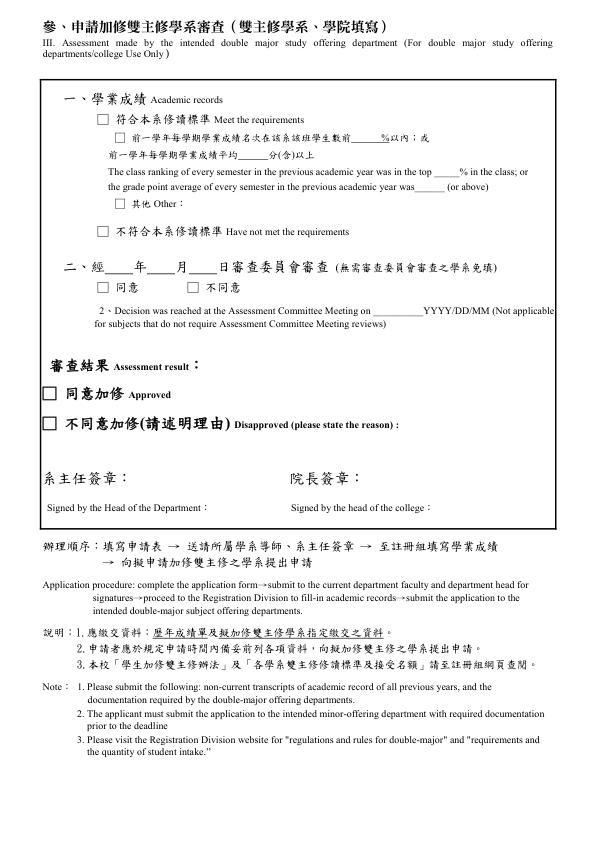check_box: (42, 412, 58, 436), (41, 385, 59, 403), (94, 110, 111, 128), (94, 223, 111, 240), (111, 196, 127, 212), (184, 281, 200, 297), (94, 280, 111, 295), (113, 131, 126, 145)
input: (375, 303, 420, 320), (148, 261, 173, 279), (190, 259, 215, 277), (416, 183, 446, 197), (240, 148, 266, 163), (353, 132, 380, 146), (107, 263, 131, 277), (435, 166, 456, 180)
text: (42, 680, 548, 761), (38, 14, 555, 63), (40, 624, 539, 671), (41, 580, 534, 620), (39, 539, 502, 570), (65, 415, 407, 434), (105, 181, 414, 195), (104, 166, 432, 179), (218, 261, 501, 275), (115, 108, 306, 127), (91, 319, 389, 331), (129, 130, 351, 145), (115, 225, 350, 239), (46, 498, 215, 516), (96, 306, 371, 317), (47, 356, 214, 374), (285, 499, 435, 517), (62, 90, 228, 106), (63, 383, 182, 404), (42, 465, 129, 490), (107, 148, 238, 163), (423, 303, 554, 317), (288, 467, 366, 488), (460, 163, 531, 181), (130, 198, 191, 212), (269, 146, 316, 163), (382, 129, 430, 145), (446, 181, 493, 194), (205, 281, 240, 297), (62, 261, 104, 274), (114, 281, 142, 295), (134, 259, 146, 277), (175, 259, 185, 275)
